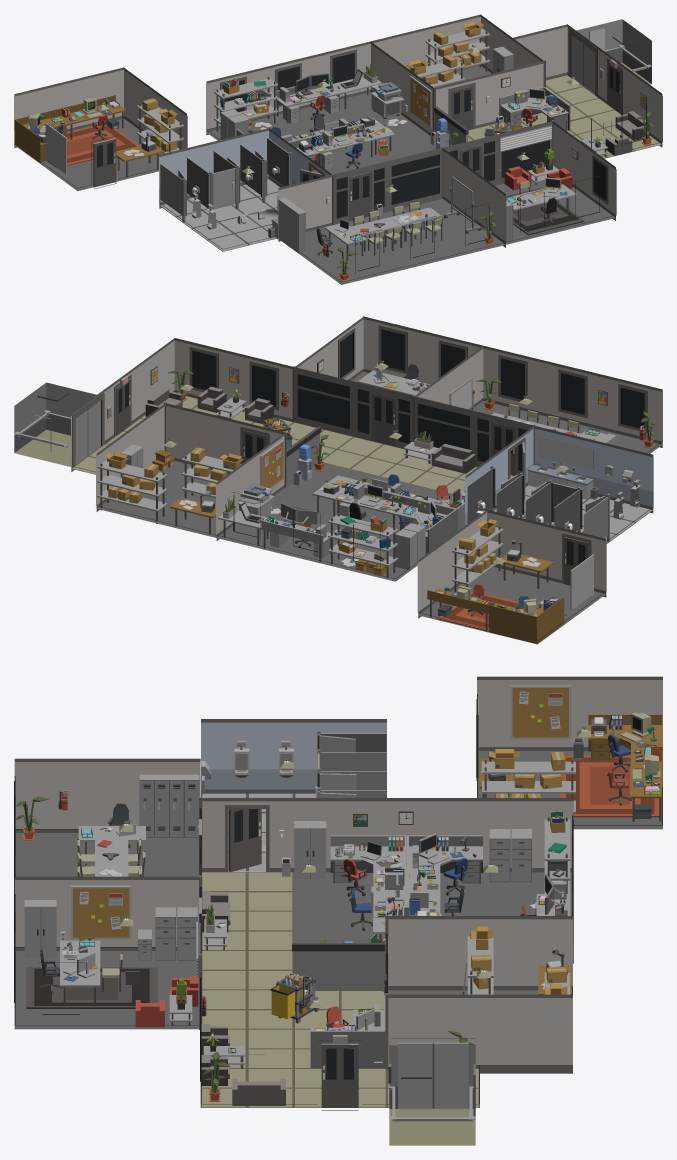
The model's file is simple-office-demo-scene.glb.
3 views of the same model, one above another, from view 1: azimuth 30°, elevation 25°; view 2: azimuth 150°, elevation 25°; view 3: azimuth 270°, elevation 25° (orthographic). The views are drawn at different scales.
Visible parts, largest first — view 1: polySurface1; view 2: polySurface1; view 3: polySurface1.
Part boxes in pixels (<box>): polySurface1: <box>14,14,662,284</box>; polySurface1: <box>14,316,662,644</box>; polySurface1: <box>14,676,662,1145</box>.
Size of the model in its own units: 49.51 by 5.15 by 34.87.
Materials: 2 (1 with a texture image).
